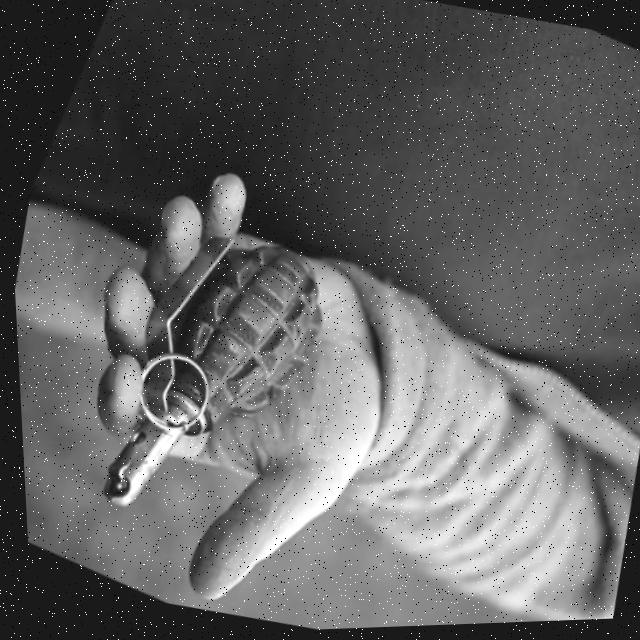grenade: (69, 182, 368, 577)
